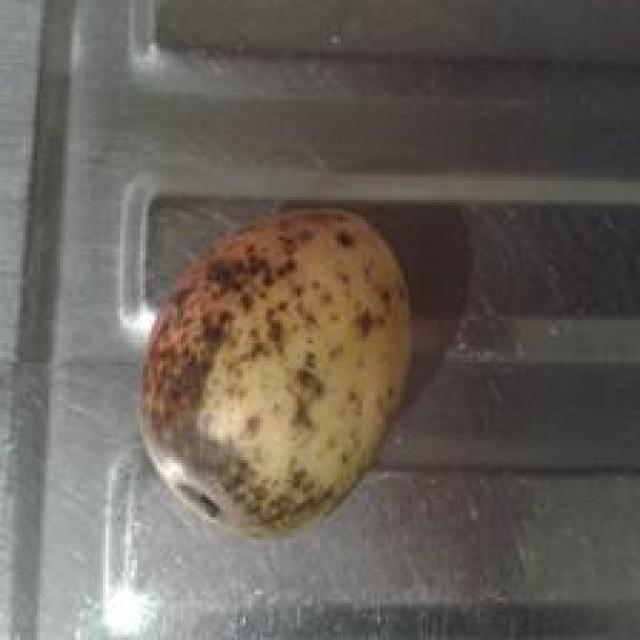Wet Waste: (114, 208, 408, 536)
